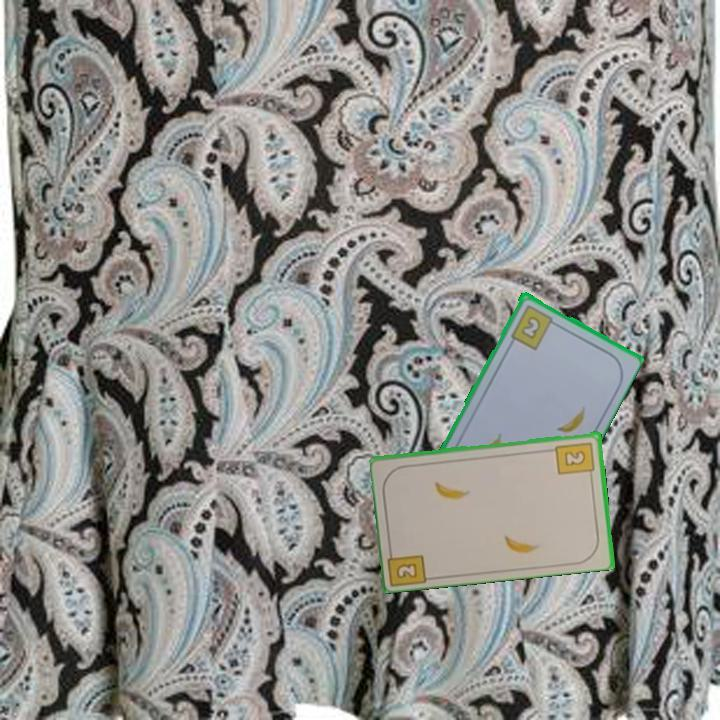2b: (507, 301, 560, 352), (386, 543, 431, 587), (553, 438, 597, 480)
